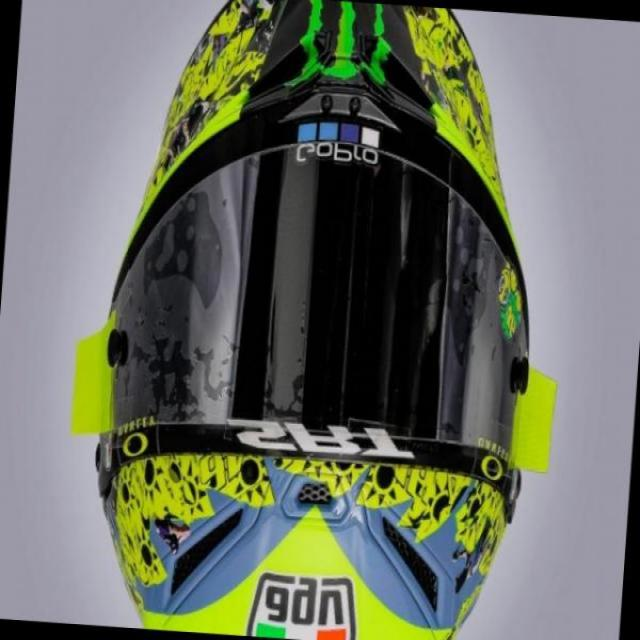Helmet: (72, 0, 552, 640)
